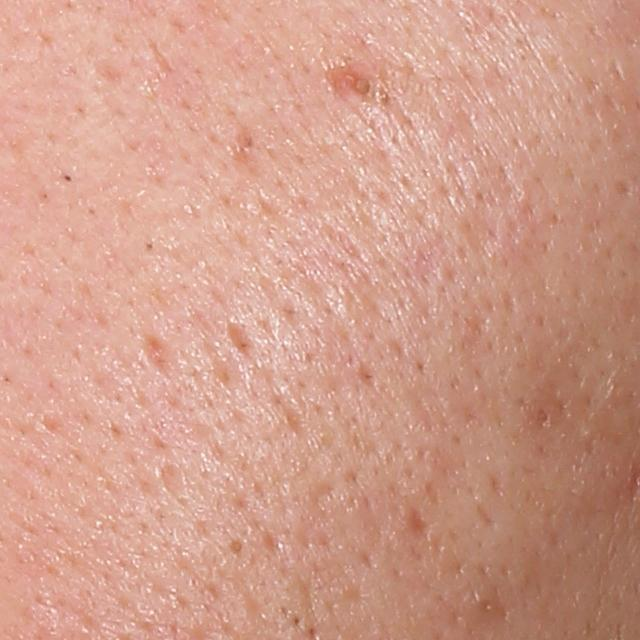atrophic_scar: (139, 334, 175, 384), (222, 319, 261, 360), (404, 504, 433, 542)
comedo: (224, 531, 254, 560), (526, 403, 556, 431), (290, 613, 304, 631)
